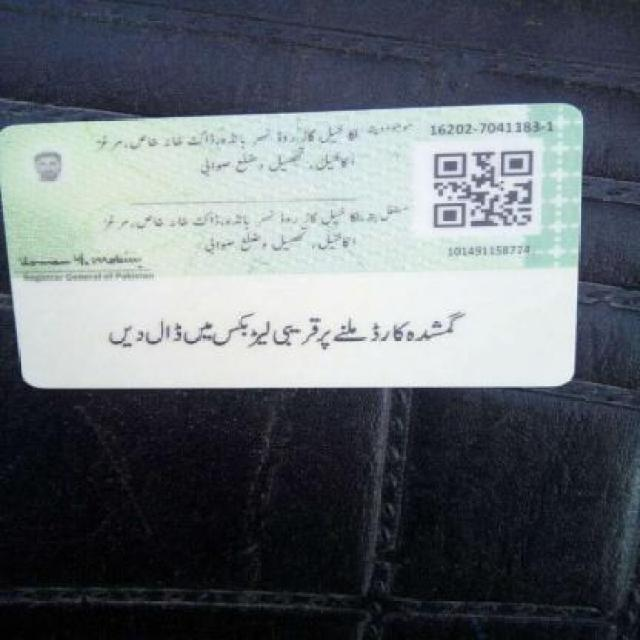Back: (8, 102, 580, 390)
